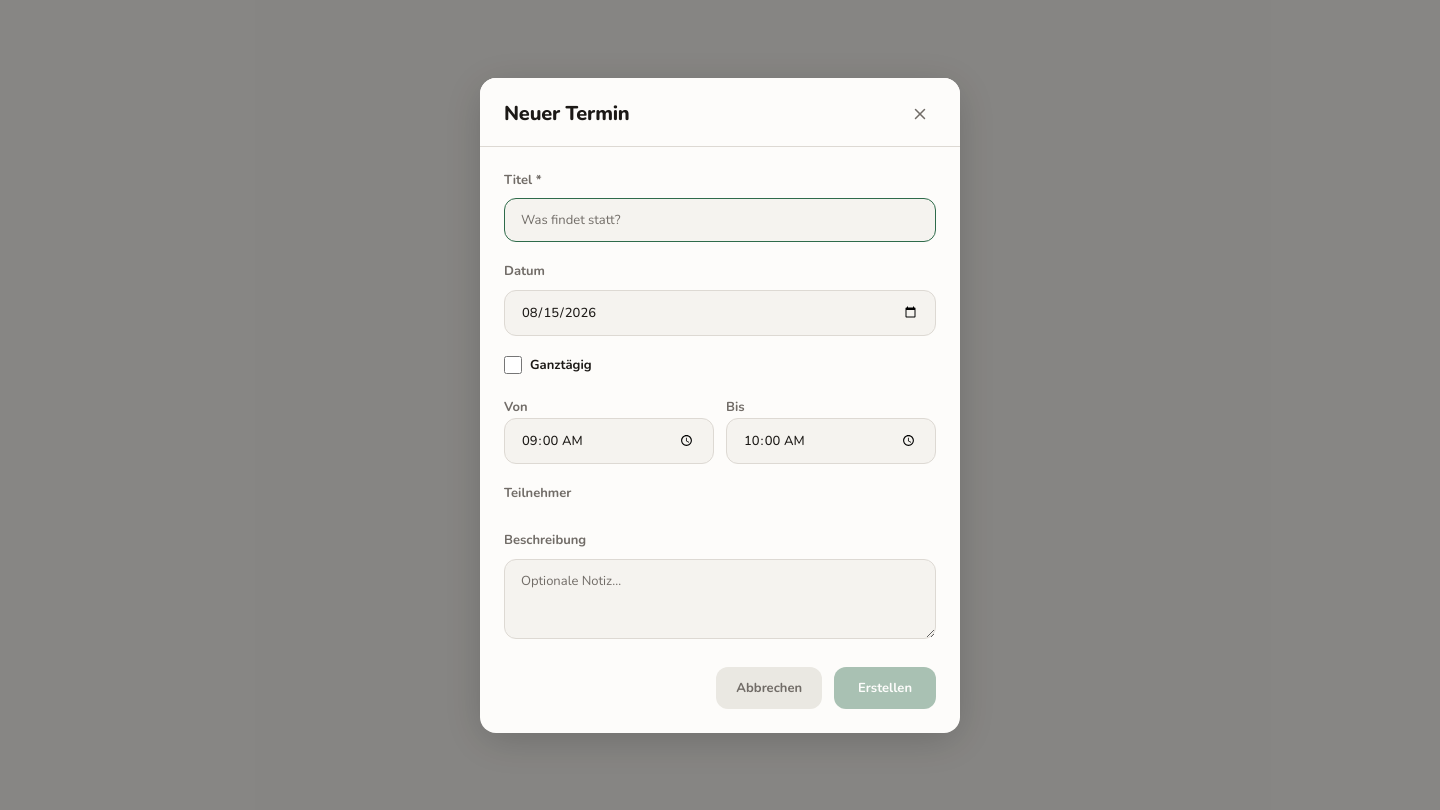
Scenario: EventFormModal — Ganztägig › ersetzt Zeit-Felder durch Von/Bis-Datumsfelder, wenn Ganztägig aktiviert wird
Click the checkbox labelled "Ganztägig".
click(513, 365)  # box [504, 356, 522, 374]
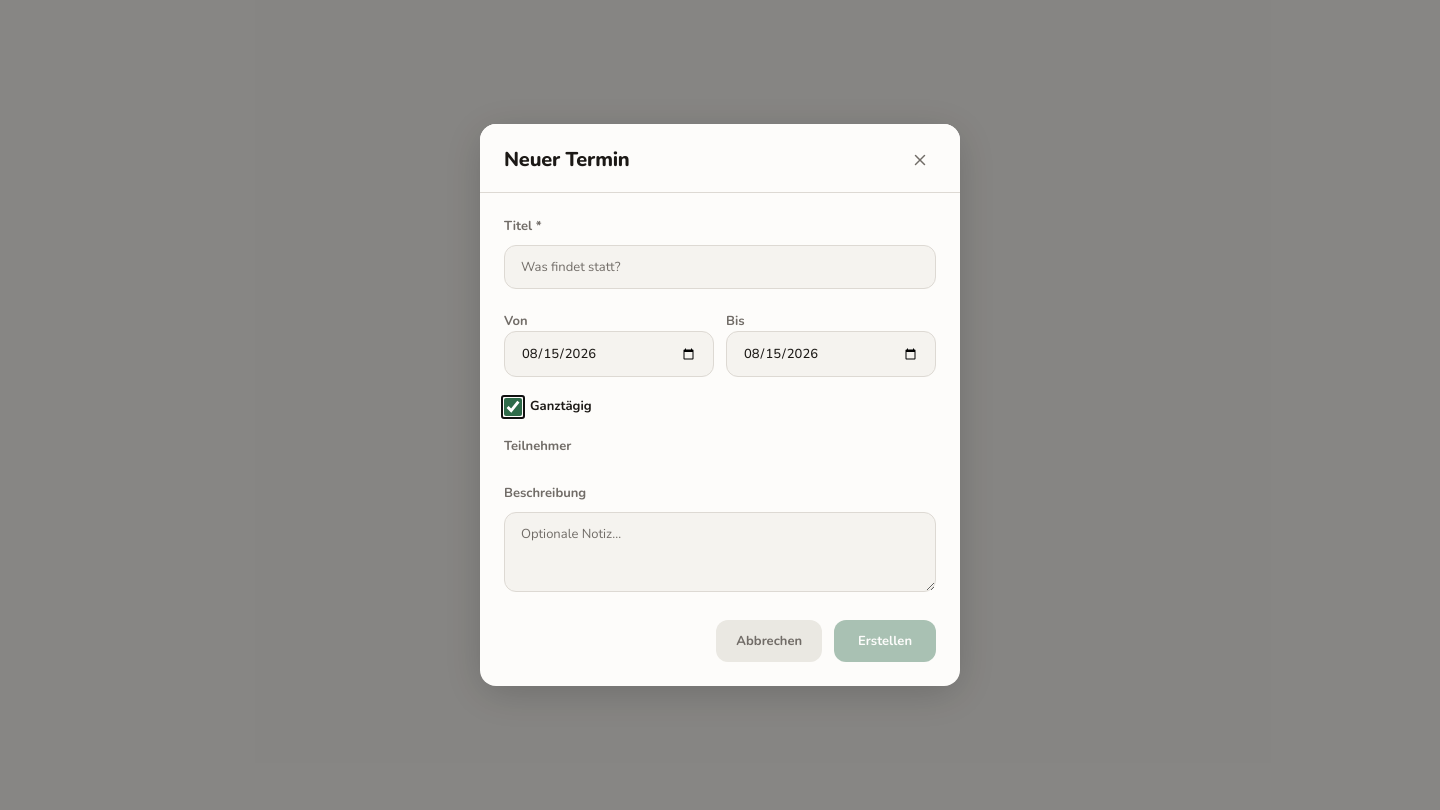
Now the label labelled "Datum" is gone
